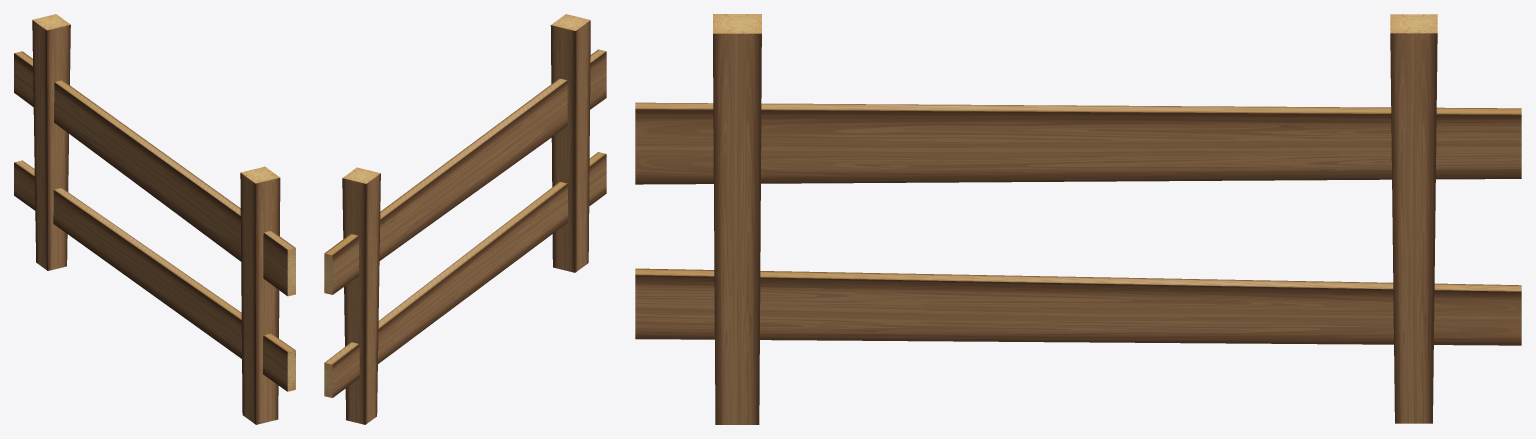
File: Fence_A.FBX
The picture shows the model from 3 angles, left to right: view 1: azimuth 30°, elevation 25°; view 2: azimuth 150°, elevation 25°; view 3: azimuth 270°, elevation 25°; orthographic projection. The views are drawn at different scales.
Parts seen in each view (by area): view 1: Fence_A; view 2: Fence_A; view 3: Fence_A.
Boxes of the visible parts, bbox=[...] form: Fence_A: bbox=[14, 14, 295, 424]; Fence_A: bbox=[324, 14, 606, 424]; Fence_A: bbox=[635, 14, 1521, 424].
Bounding box in the file's own units: 0.1042 × 0.9725 × 1.99.
